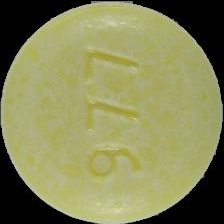51285-125: (0, 0, 224, 224)
